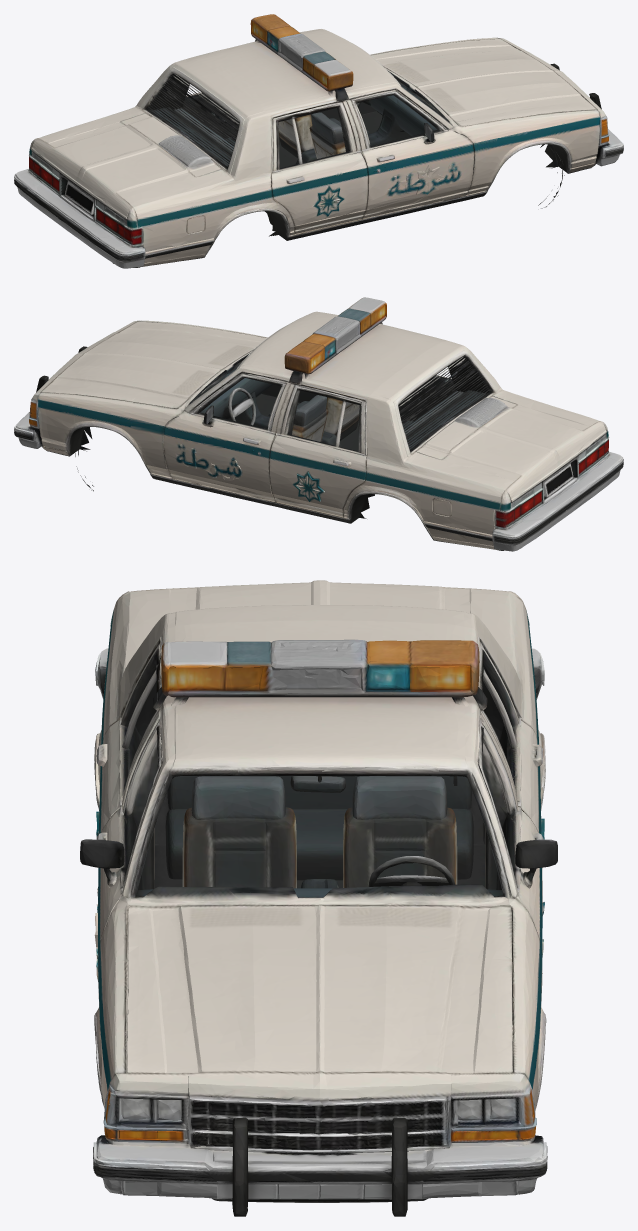
File: body.glb
The picture shows the model from 3 angles, top to bottom: view 1: azimuth 30°, elevation 25°; view 2: azimuth 150°, elevation 25°; view 3: azimuth 270°, elevation 25°; orthographic projection. The views are drawn at different scales.
Parts seen in each view (by area): view 1: tripo_node_d5ddadac-8a0a-49ed-bbbe-a52483e57b1e; view 2: tripo_node_d5ddadac-8a0a-49ed-bbbe-a52483e57b1e; view 3: tripo_node_d5ddadac-8a0a-49ed-bbbe-a52483e57b1e.
Part boxes in pixels (box(x1,y1,x2,y2)): tripo_node_d5ddadac-8a0a-49ed-bbbe-a52483e57b1e: box(14, 14, 623, 268); tripo_node_d5ddadac-8a0a-49ed-bbbe-a52483e57b1e: box(14, 297, 623, 551); tripo_node_d5ddadac-8a0a-49ed-bbbe-a52483e57b1e: box(80, 580, 557, 1216).
Bounding box in the file's own units: 5.2 × 1.71 × 2.07.
Materials: 1 (1 with a texture image).
